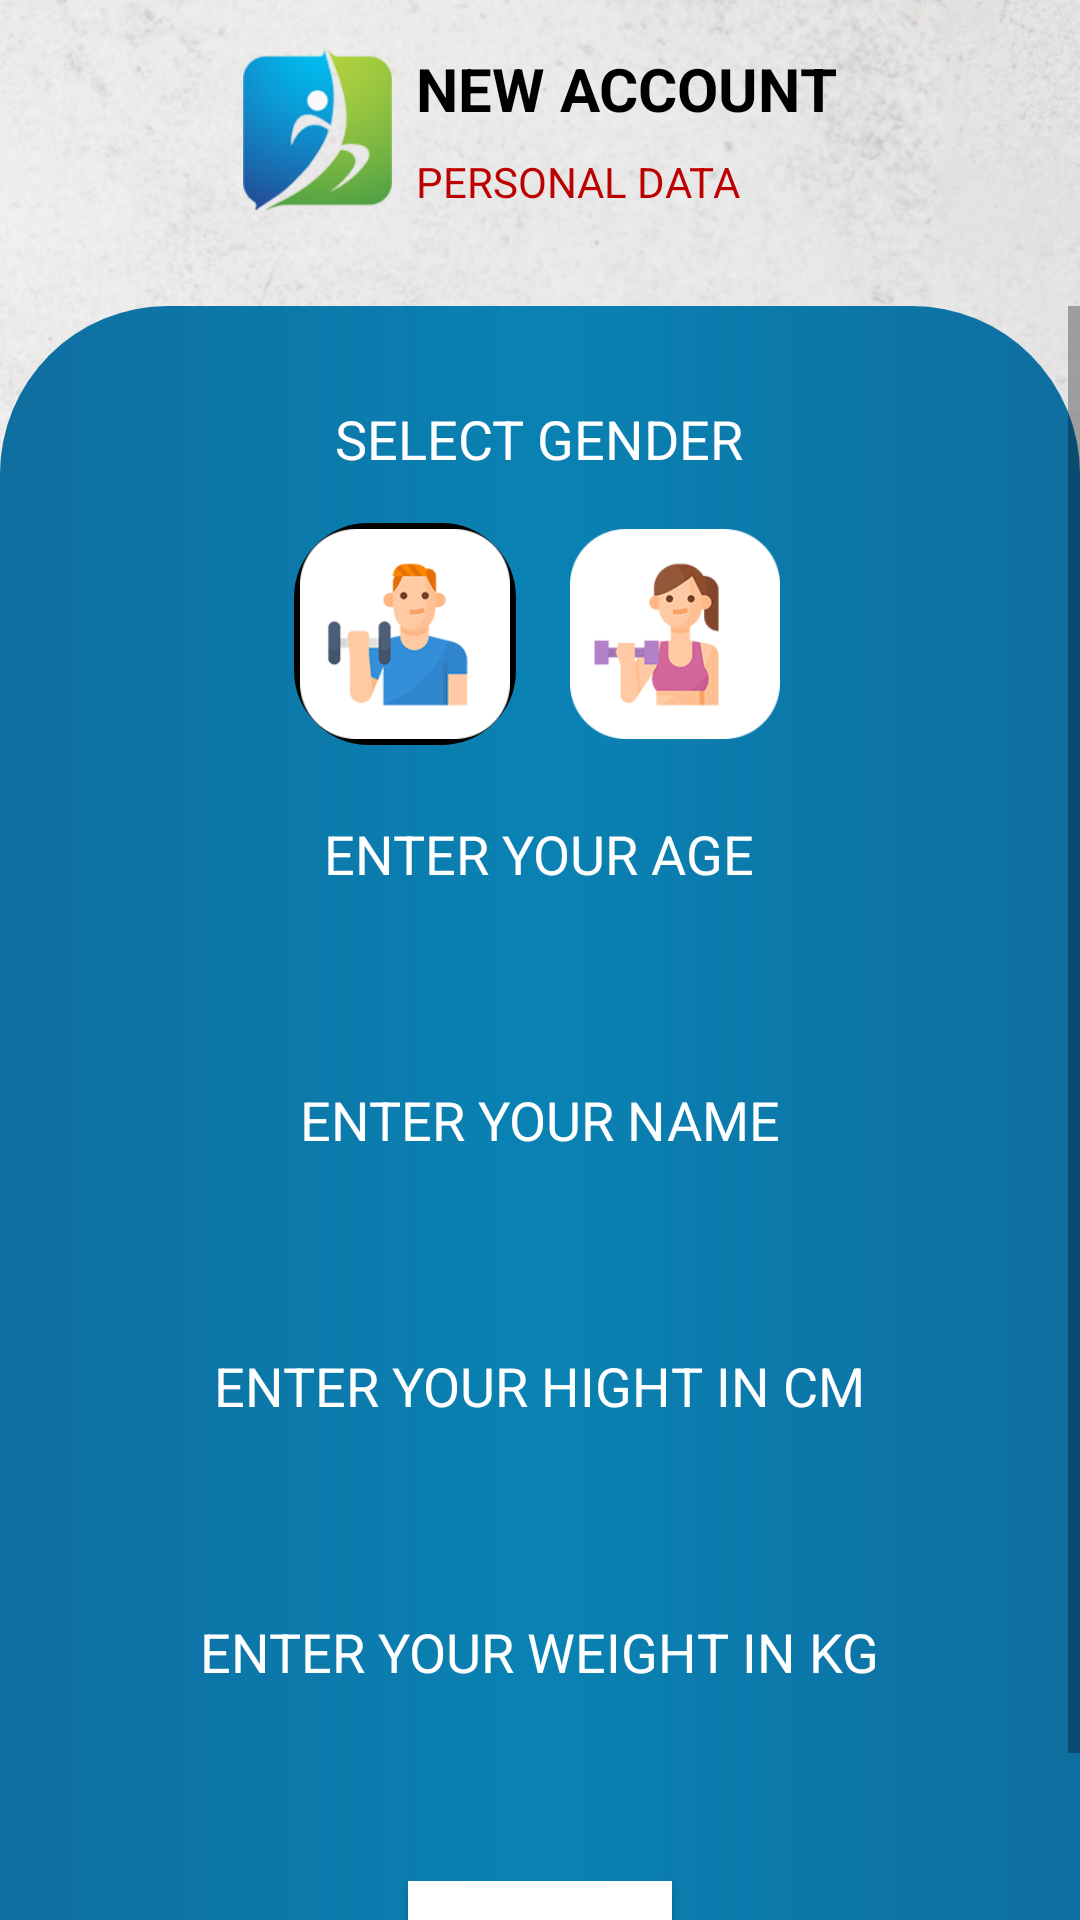

Locate icon controls on the screen. Image size 1080x1920, boxes as (x1,y1,x2,y2).
man: (294,523,516,745)
woman: (570,529,780,739)
